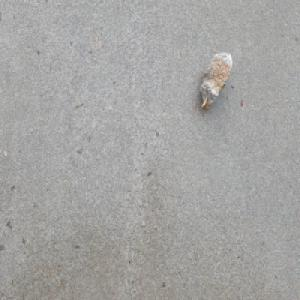Rock: (199, 51, 232, 111)
